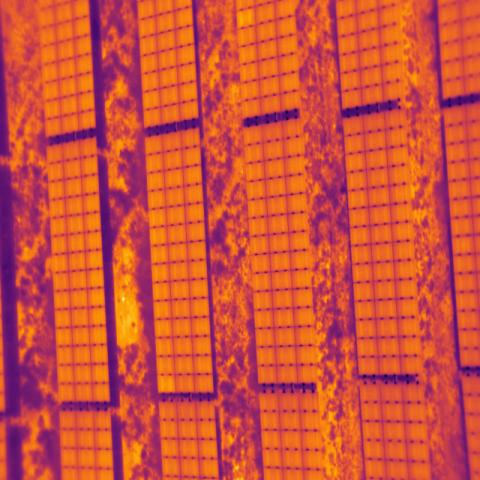fault: (235, 6, 257, 30)
